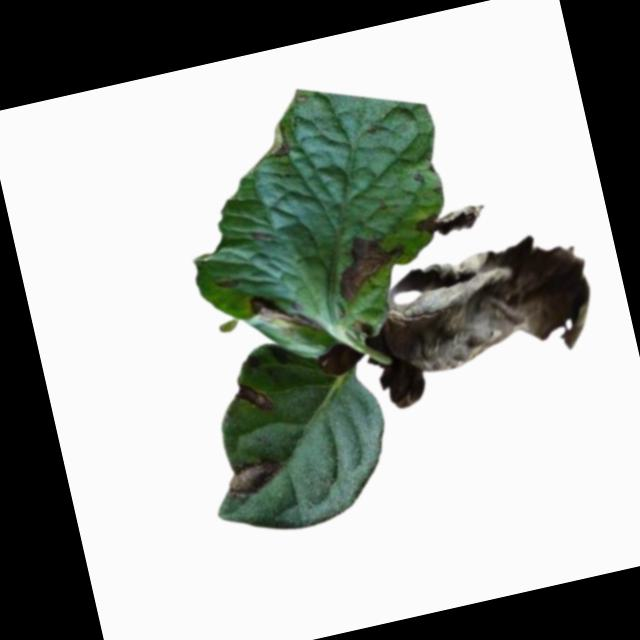Early_blight: (358, 231, 608, 411), (326, 228, 415, 304), (246, 282, 325, 349), (411, 197, 489, 243), (222, 455, 289, 505), (229, 374, 275, 420), (268, 137, 290, 159)
